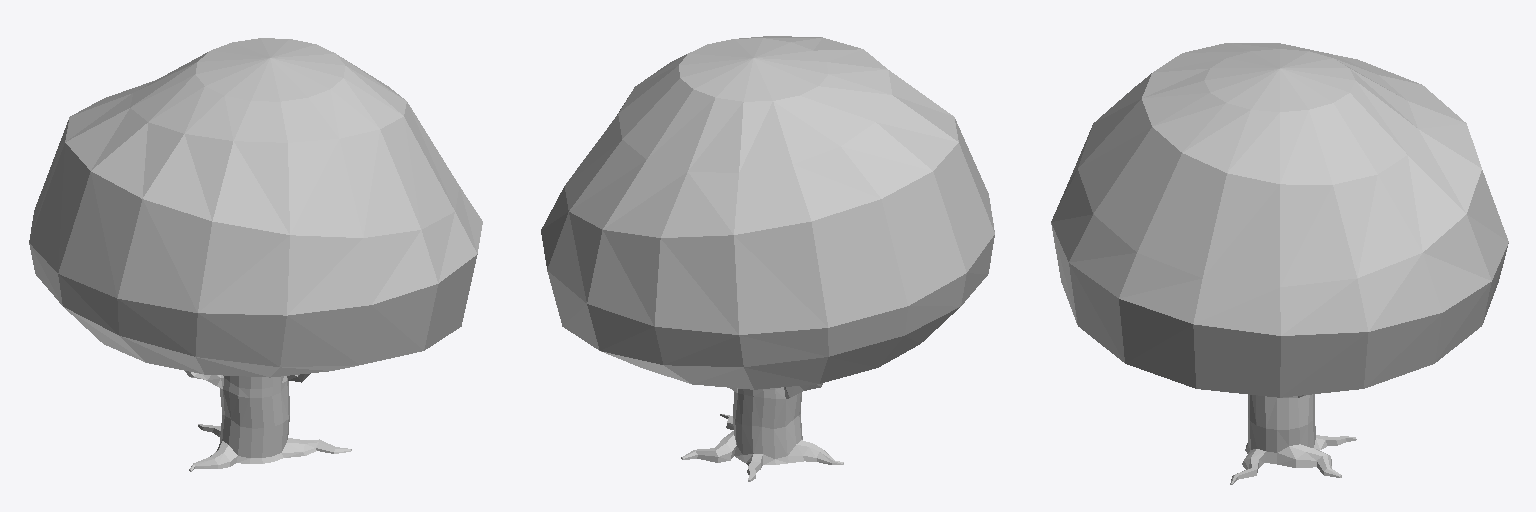
The model's file is CartoonTree1.obj.
The picture shows the model from 3 angles: view 1: azimuth 30°, elevation 25°; view 2: azimuth 150°, elevation 25°; view 3: azimuth 270°, elevation 25°; orthographic projection.
Size of the model in its own units: 2.29 by 2.15 by 2.29.